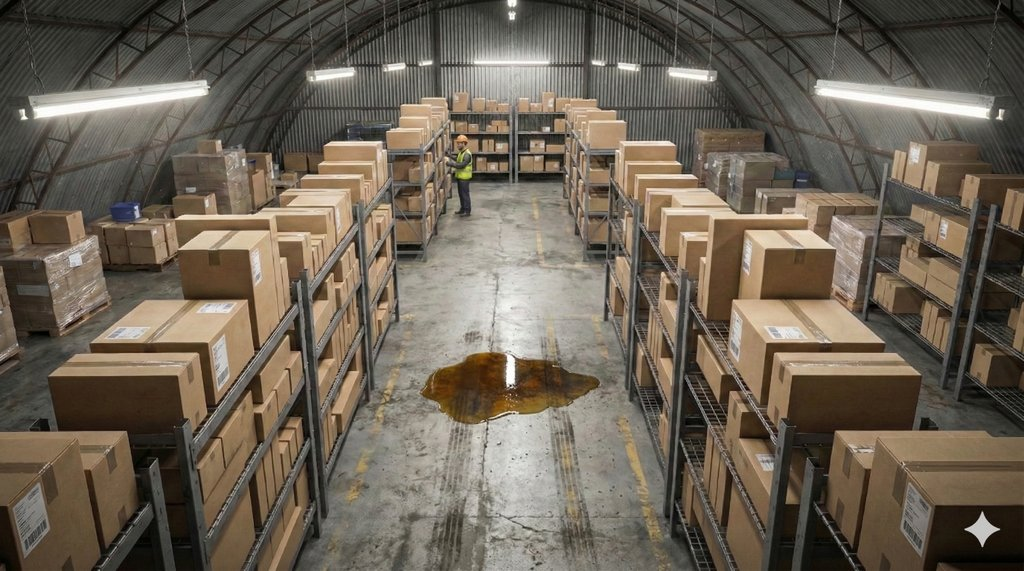person: (445, 129, 491, 214)
safety_helmet: (453, 132, 470, 148)
safety_vest: (453, 149, 473, 182)
spill: (422, 328, 610, 439)
